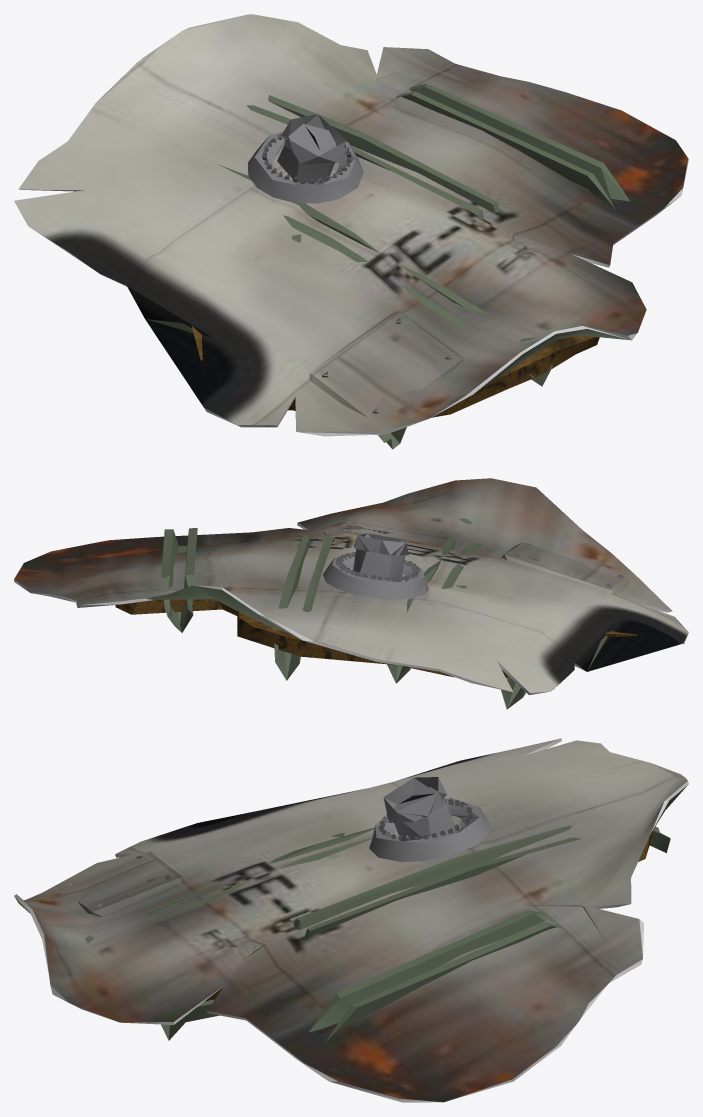
The model's file is capsule_upper_shell_fragment_lod2.glb.
3 views of the same model, one above another, from view 1: azimuth 30°, elevation 25°; view 2: azimuth 150°, elevation 25°; view 3: azimuth 270°, elevation 25° (orthographic). The views are drawn at different scales.
Parts seen in each view (by area): view 1: capsule_upper_shell_fragment; view 2: capsule_upper_shell_fragment; view 3: capsule_upper_shell_fragment.
Boxes of the visible parts, x1,y1,x2,y2 form: capsule_upper_shell_fragment: [14, 14, 688, 449]; capsule_upper_shell_fragment: [14, 478, 688, 709]; capsule_upper_shell_fragment: [14, 738, 688, 1102].
Size of the model in its own units: 1.18 by 0.3675 by 1.06.
6 materials, 2 textured.
